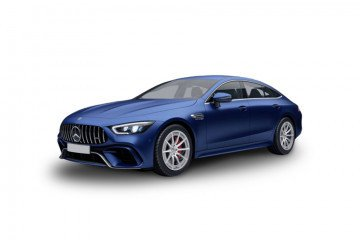car: (59, 67, 308, 178)
